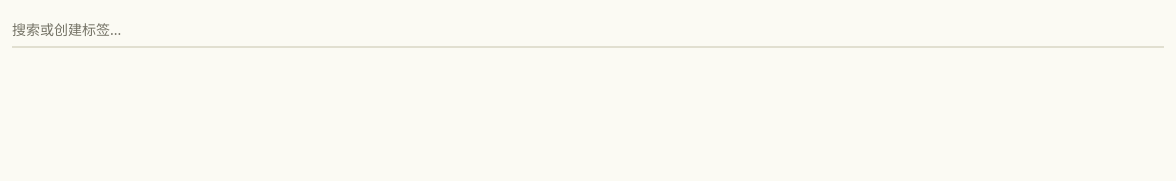
TagAutocomplete 集成测试 › 创建新标签 › 应该在没有匹配结果时显示创建新标签选项
The width and height of the screenshot is (1176, 181).
Step 1. Type "NewTag" into the field named "标签输入" → (588, 30), box [12,12,1164,48]
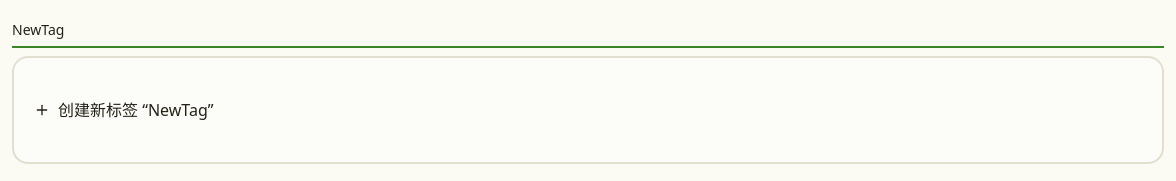
Check: the text "创建新标签 “NewTag”" is shown, box [58,98,214,122]
